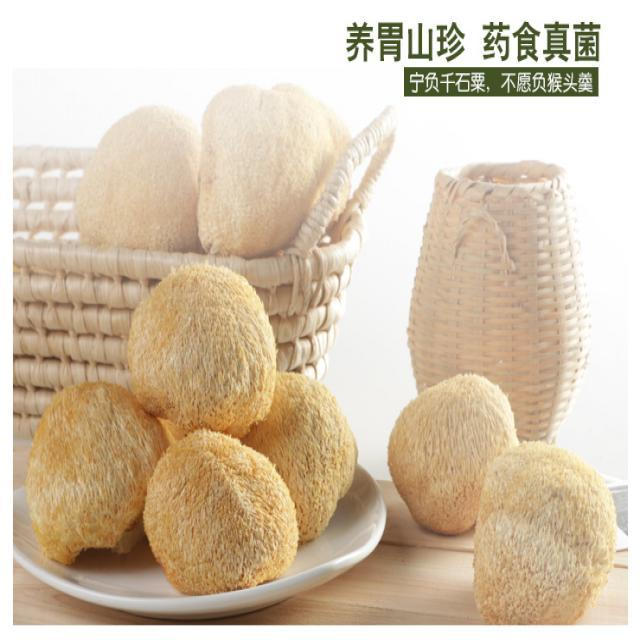Hericium erinaceus: (199, 80, 350, 260), (476, 441, 615, 626), (127, 265, 279, 433), (144, 431, 299, 590), (27, 383, 163, 561), (388, 375, 517, 534), (79, 102, 199, 252)
